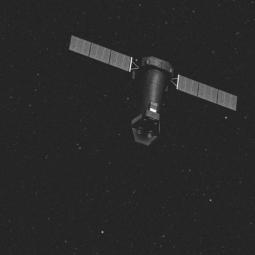xmm_newton: (83, 44, 210, 143)
